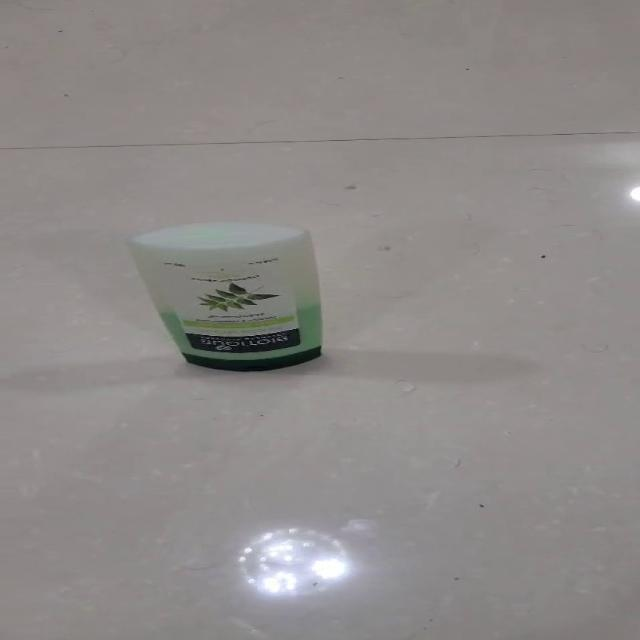plastic: (125, 220, 324, 371)
